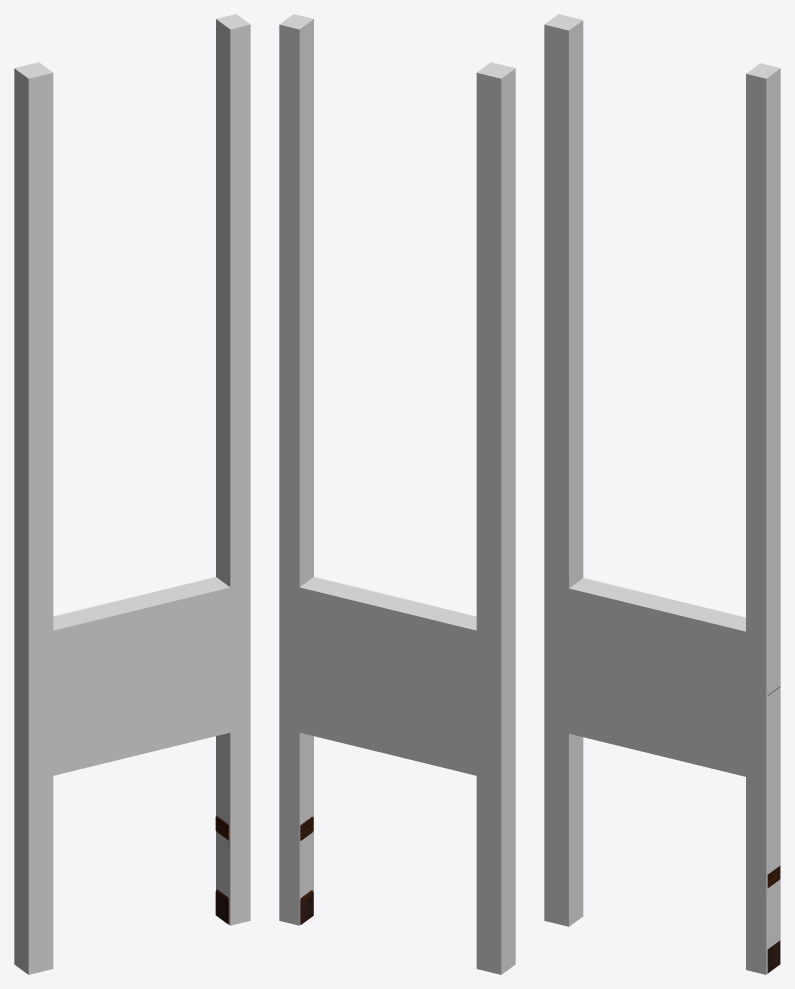
File: BalconyRail_2Pole.fbx
The picture shows the model from 3 angles, left to right: view 1: azimuth 30°, elevation 25°; view 2: azimuth 150°, elevation 25°; view 3: azimuth 330°, elevation 25°; orthographic projection.
Parts seen in each view (by area): view 1: Balcony2pole_COLmesh, Balcony_2_Poles_LOD0; view 2: Balcony2pole_COLmesh, Balcony_2_Poles_LOD0; view 3: Balcony2pole_COLmesh, Balcony_2_Poles_LOD0.
Part boxes in pixels (x1,y1,x2,y2): Balcony2pole_COLmesh: (14, 14, 250, 974); Balcony_2_Poles_LOD0: (215, 816, 228, 924); Balcony2pole_COLmesh: (279, 14, 515, 974); Balcony_2_Poles_LOD0: (300, 816, 313, 924); Balcony2pole_COLmesh: (544, 14, 780, 974); Balcony_2_Poles_LOD0: (767, 686, 780, 972).
Bounding box in the file's own units: 384 × 1480 × 43.23.
